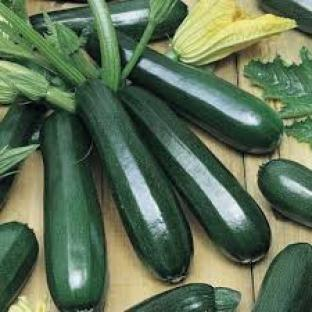Zucchini: (121, 86, 270, 263), (77, 81, 192, 282), (131, 49, 282, 153), (41, 113, 106, 311), (253, 245, 311, 311), (258, 160, 311, 227), (0, 222, 38, 311), (127, 283, 241, 311), (0, 104, 42, 149)
